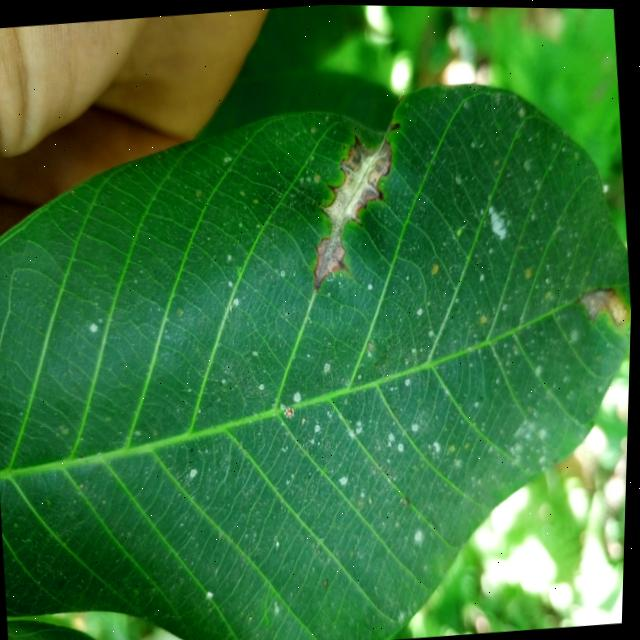Corynespora: (301, 118, 413, 289)
